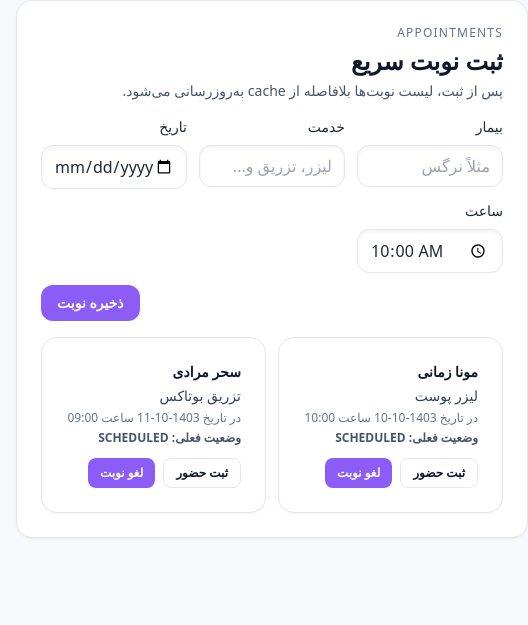
Scenario: AppointmentScheduler › surfaces PLAN_LIMIT for appointments
Expected: the text "مونا زمانی" is shown, [417,362,478,381]
Type "مریم" into the field with placeholder "مثلاً نرگس". click: {"x": 430, "y": 166}
box: [357,145,503,187]
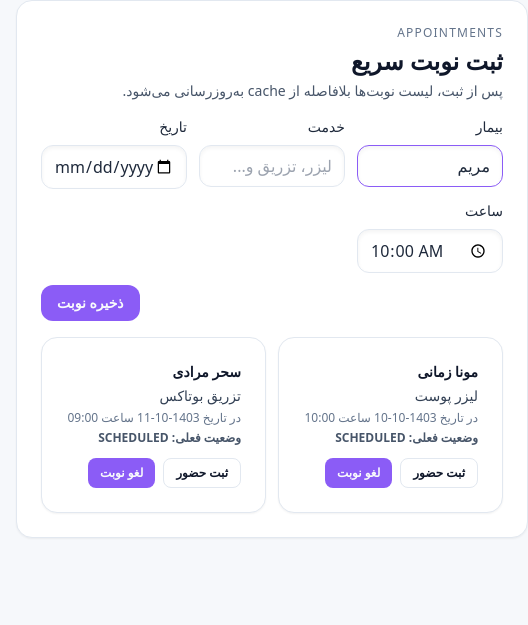
Type "لیزر" into the field with placeholder "لیزر، تزریق و...". click: {"x": 272, "y": 166}
box: [199,145,345,187]
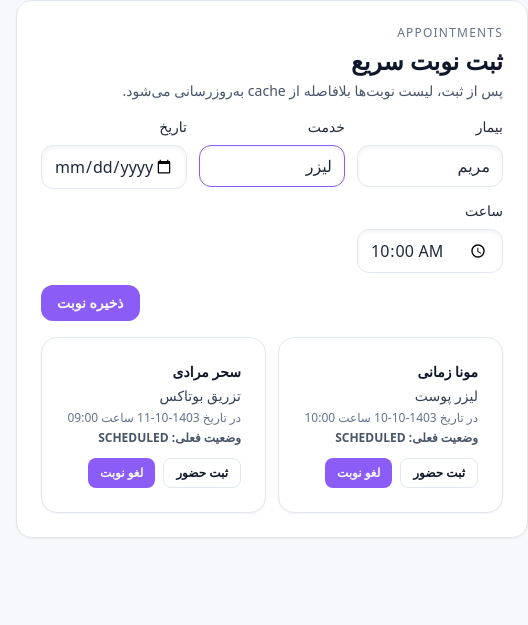
Type "1403-11-02" into the date field labelled "تاریخ". click: {"x": 114, "y": 167}
box: [41,145,187,189]
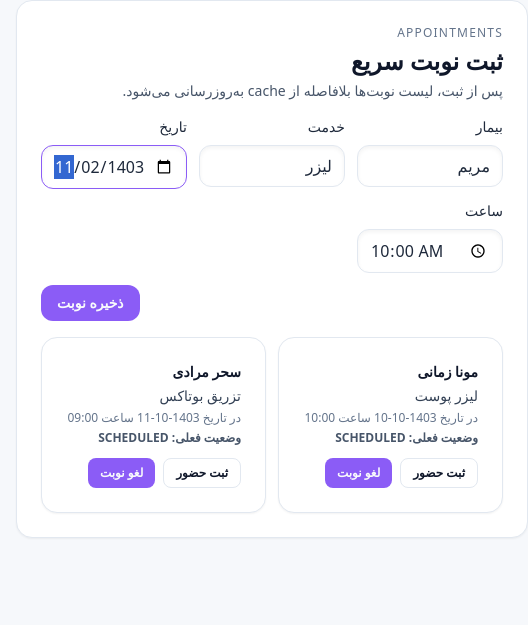
Type "08:30" into the time field labelled "ساعت". click: {"x": 430, "y": 251}
box: [357,229,503,273]
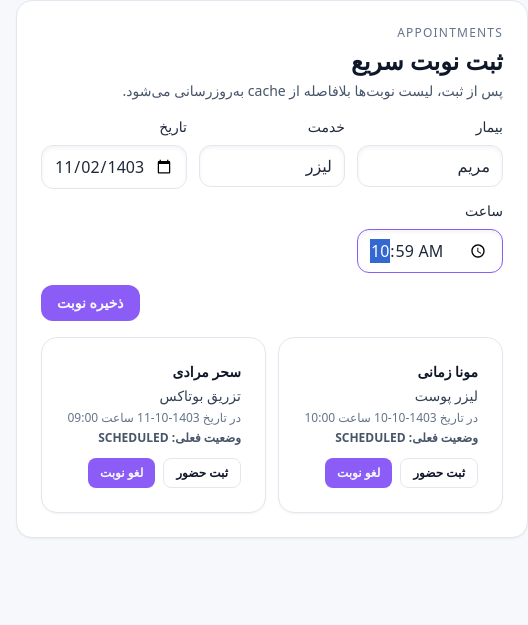
Click the button "ذخیره نوبت". click: {"x": 90, "y": 303}
box: [41,285,140,321]
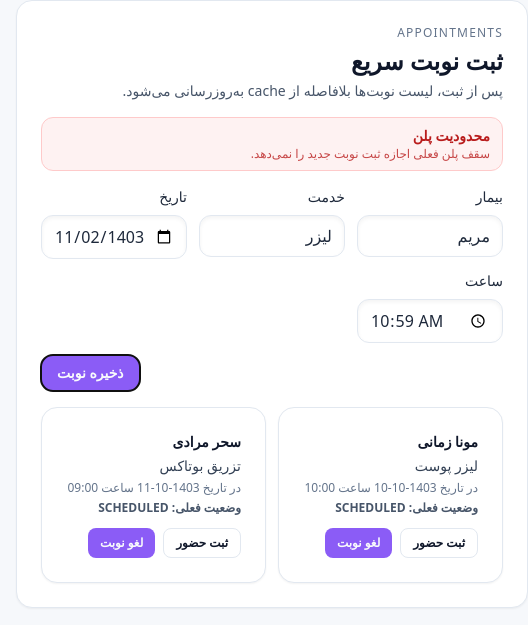
Now the text "سقف پلن فعلی اجازه ثبت نوبت جدید را نمی‌دهد." is shown, box [251,145,490,162]
